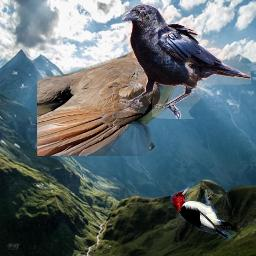Crow: (119, 4, 251, 119)
Cuckoo: (37, 32, 197, 156)
Woodpecker: (163, 182, 243, 242)
